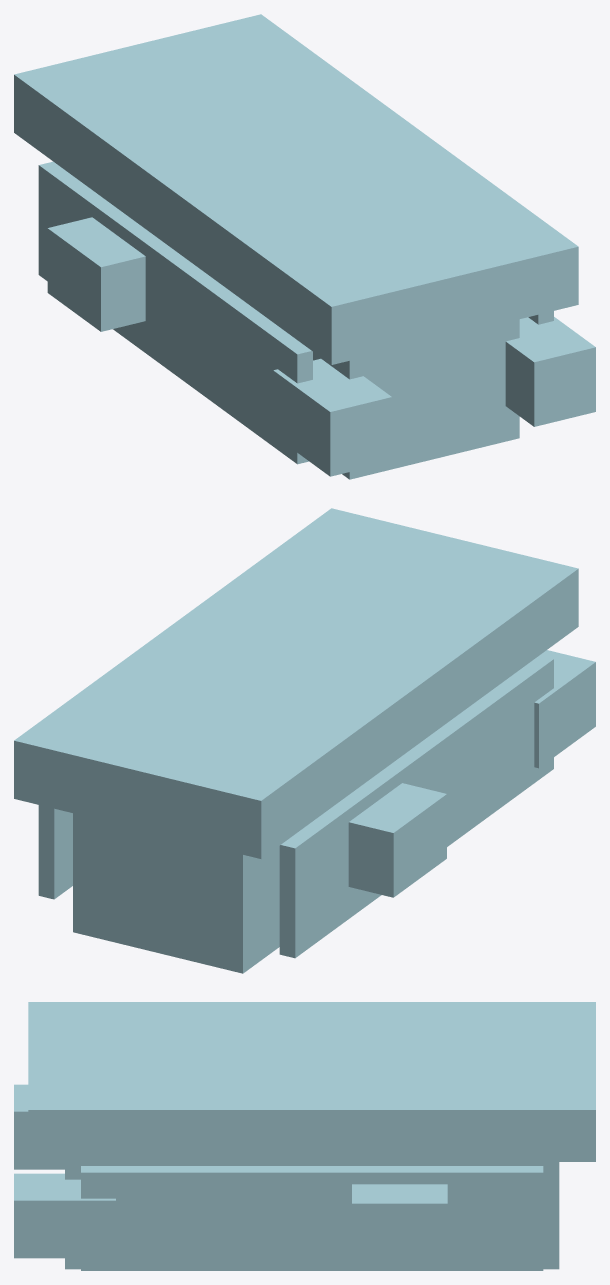
3 views of the same model, one above another, from view 1: azimuth 30°, elevation 25°; view 2: azimuth 150°, elevation 25°; view 3: azimuth 270°, elevation 25° (orthographic). The views are drawn at different scales.
Visible parts, largest first — view 1: sub; view 2: sub; view 3: sub.
Boxes of the visible parts, x1,y1,x2,y2 form: sub: (14, 14, 595, 479); sub: (14, 508, 595, 973); sub: (14, 1002, 595, 1270).
Bounding box in the file's own units: 2.24 × 1.22 × 3.65.
